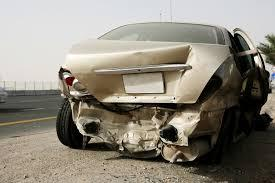boot-dent: (74, 41, 205, 98)
rear-bumper-dent: (77, 98, 213, 148)
